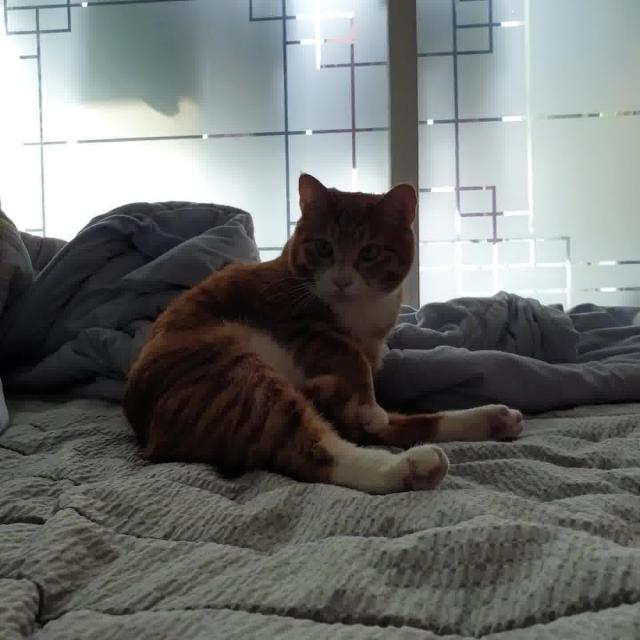cat: (102, 161, 546, 511)
